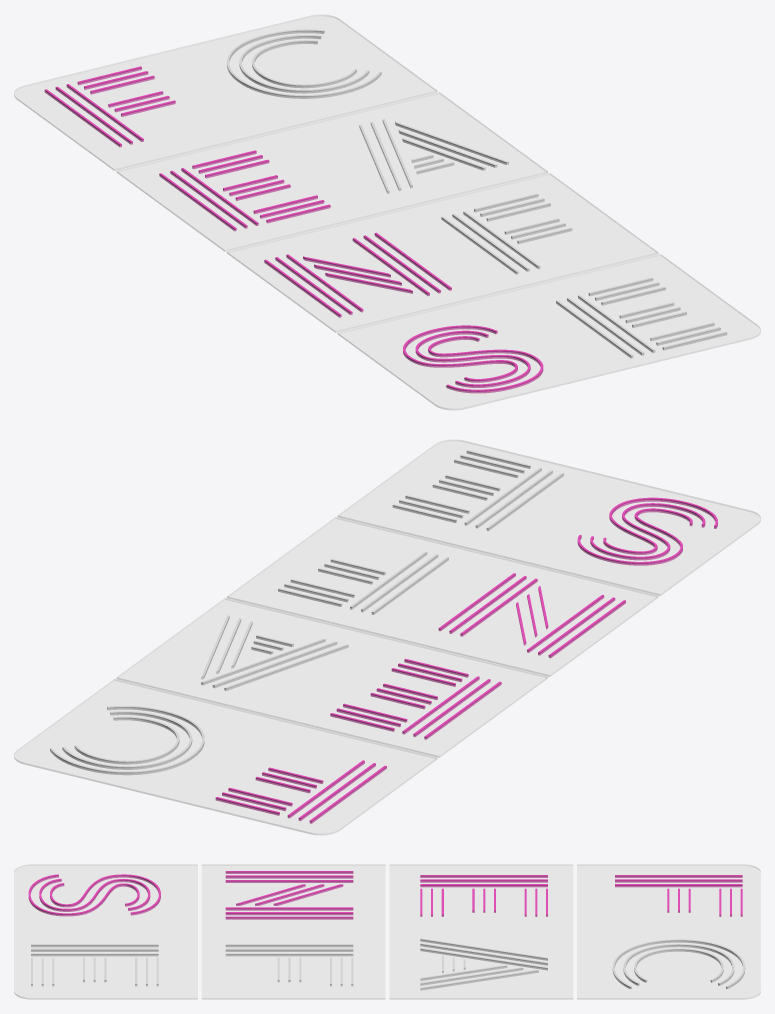
The model's file is sign.glb.
The picture shows the model from 3 angles, top to bottom: view 1: azimuth 30°, elevation 25°; view 2: azimuth 150°, elevation 25°; view 3: azimuth 270°, elevation 25°; orthographic projection. The views are drawn at different scales.
Parts seen in each view (by area): view 1: Body73, Body1, Body72, Body74, Body125, Body84, Body122, Body130, Body104, Body88; view 2: Body73, Body72, Body1, Body74, Body84, Body130, Body122, Body125, Body104, Body88; view 3: Body73, Body1, Body74, Body72, Body84, Body125, Body122, Body130, Body104, Body88, Body91, Body75 (+25 smaller).
Part boxes in pixels (left/top/right/bottom): Body73: left=14, top=14, right=437, bottom=170; Body1: left=116, top=92, right=547, bottom=251; Body72: left=227, top=173, right=658, bottom=332; Body74: left=337, top=254, right=760, bottom=410; Body125: left=428, top=336, right=543, bottom=393; Body84: left=227, top=29, right=381, bottom=98; Body122: left=415, top=330, right=530, bottom=387; Body130: left=403, top=325, right=517, bottom=382; Body104: left=239, top=34, right=369, bottom=93; Body88: left=252, top=40, right=356, bottom=88; Body73: left=14, top=679, right=437, bottom=835; Body72: left=227, top=517, right=658, bottom=676; Body1: left=116, top=598, right=547, bottom=757; Body74: left=337, top=439, right=760, bottom=595; Body84: left=50, top=706, right=204, bottom=775; Body130: left=577, top=508, right=692, bottom=565; Body122: left=590, top=503, right=705, bottom=560; Body125: left=603, top=497, right=717, bottom=554; Body104: left=62, top=711, right=192, bottom=769; Body88: left=74, top=716, right=179, bottom=764; Body73: left=577, top=864, right=760, bottom=999; Body1: left=389, top=864, right=573, bottom=999; Body74: left=14, top=864, right=197, bottom=999; Body72: left=201, top=864, right=385, bottom=999; Body84: left=612, top=939, right=745, bottom=989; Body125: left=28, top=874, right=139, bottom=916; Body122: left=39, top=878, right=150, bottom=911; Body130: left=50, top=874, right=160, bottom=915; Body104: left=623, top=944, right=734, bottom=985; Body88: left=634, top=948, right=723, bottom=982; Body91: left=225, top=944, right=353, bottom=947; Body75: left=225, top=948, right=353, bottom=951.
Size of the model in its own units: 860 by 7.76 by 2030.
